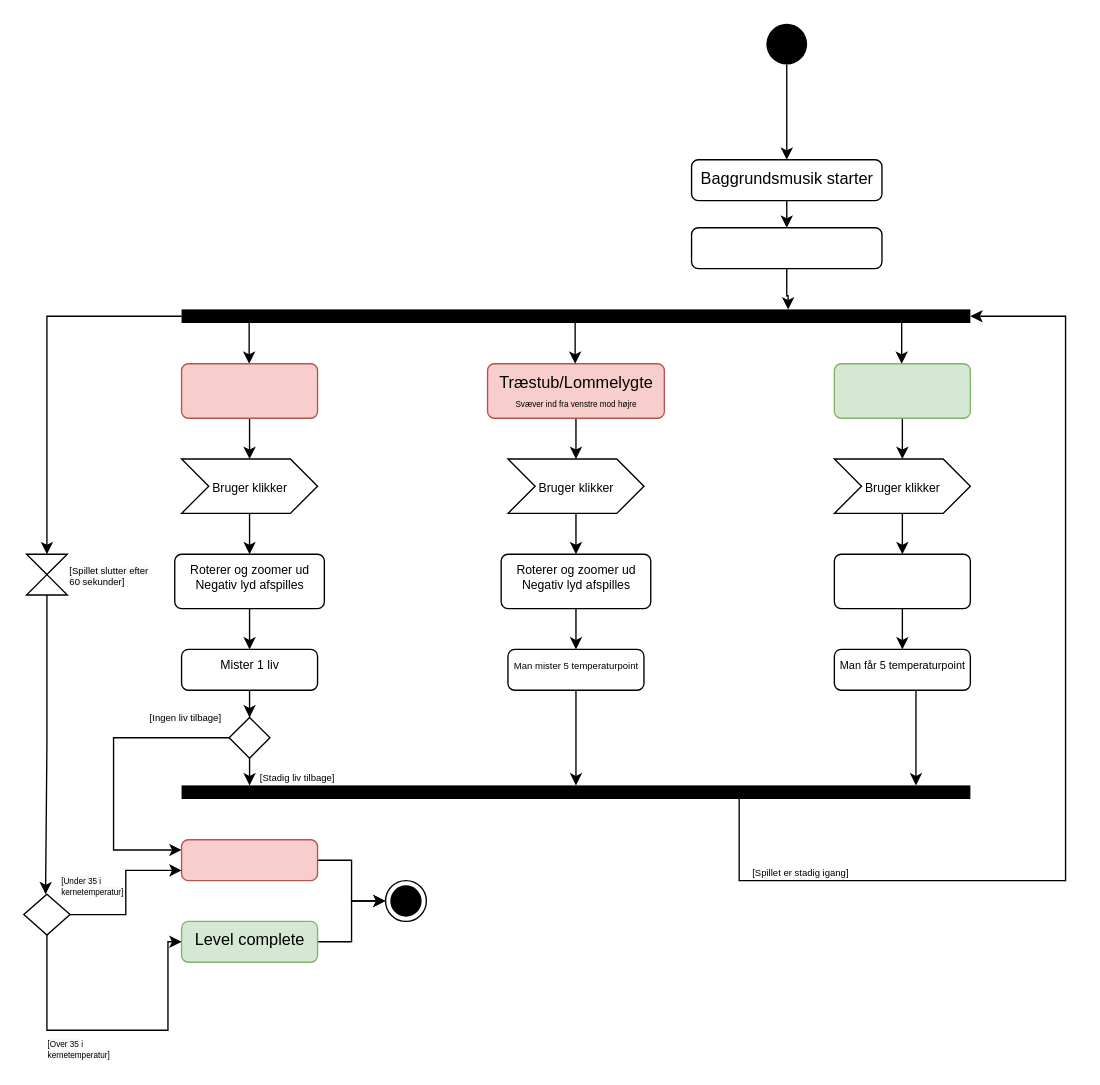
This 1100x1085 diagram has some shape labels left out. Here are the shapes that lost their labels. From the top down, the centre of each, then its label:
(x=786, y=247): Objekter kommer frem
(x=249, y=390): Fisk Svæver ind fra venstre mod højre
(x=901, y=390): Bukser/Trøje/Hue/Strømper Svæver ind fra venstre mod højre
(x=901, y=581): Roterer og zoomer ud Positiv lyd afspilles
(x=249, y=859): Game over
